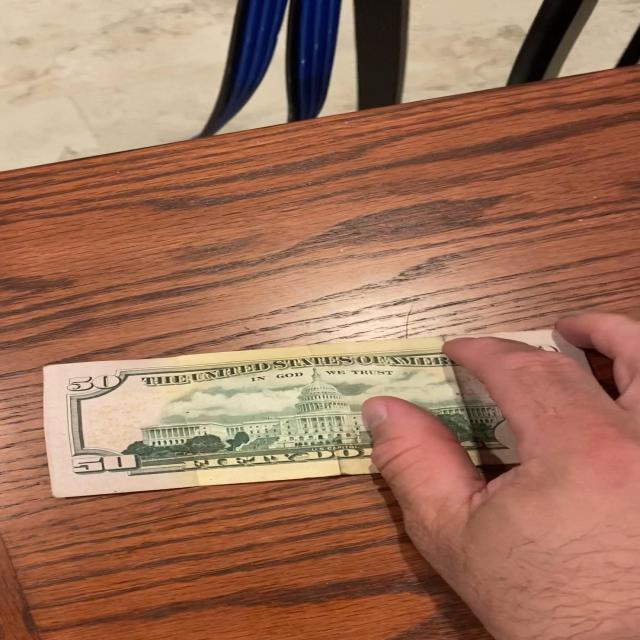50-Back: (39, 326, 616, 508)
